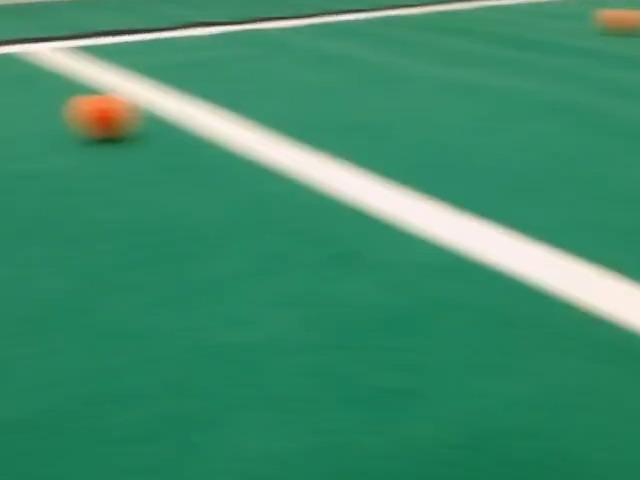Ball: (64, 94, 139, 140), (594, 8, 639, 34)
